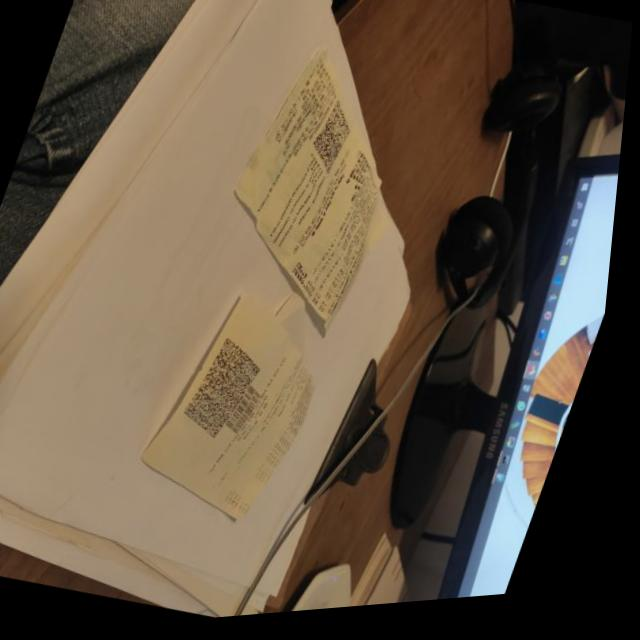qrcode: (184, 336, 277, 450), (307, 104, 363, 184)
